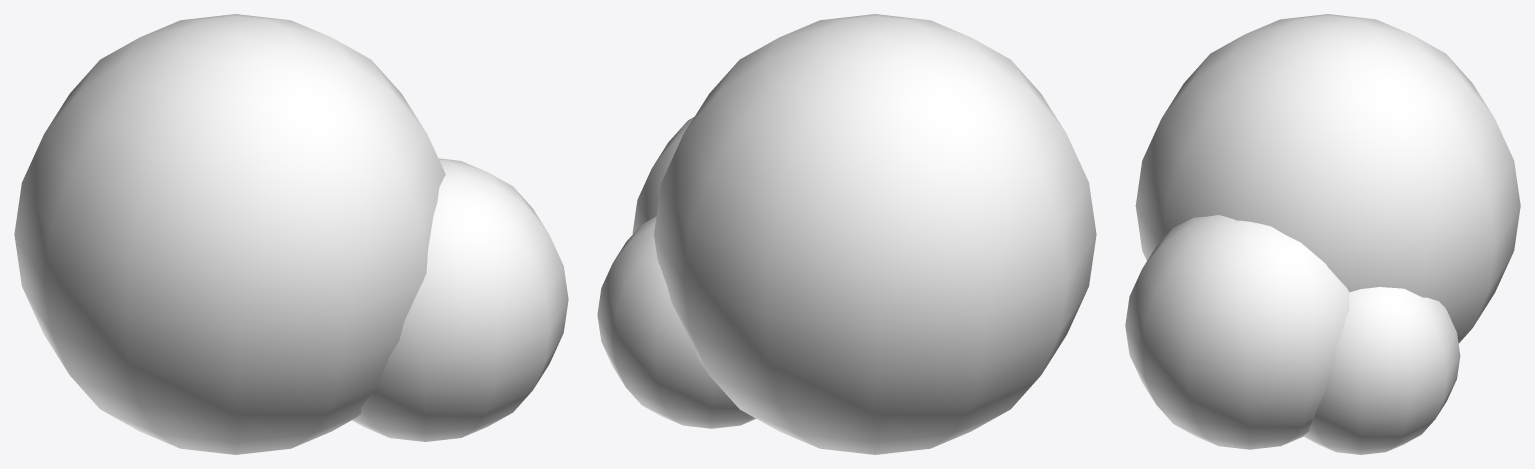
The model's file is FXM_SmokePuff.fbx.
The picture shows the model from 3 angles, left to right: view 1: azimuth 30°, elevation 25°; view 2: azimuth 150°, elevation 25°; view 3: azimuth 270°, elevation 25°; orthographic projection. The views are drawn at different scales.
Visible parts, largest first — view 1: SmokePuff; view 2: SmokePuff; view 3: SmokePuff.
Boxes of the visible parts, bbox=[...] form: SmokePuff: bbox=[14, 14, 568, 454]; SmokePuff: bbox=[597, 14, 1096, 454]; SmokePuff: bbox=[1125, 14, 1520, 454].
Size of the model in its own units: 197 by 166 by 169.
